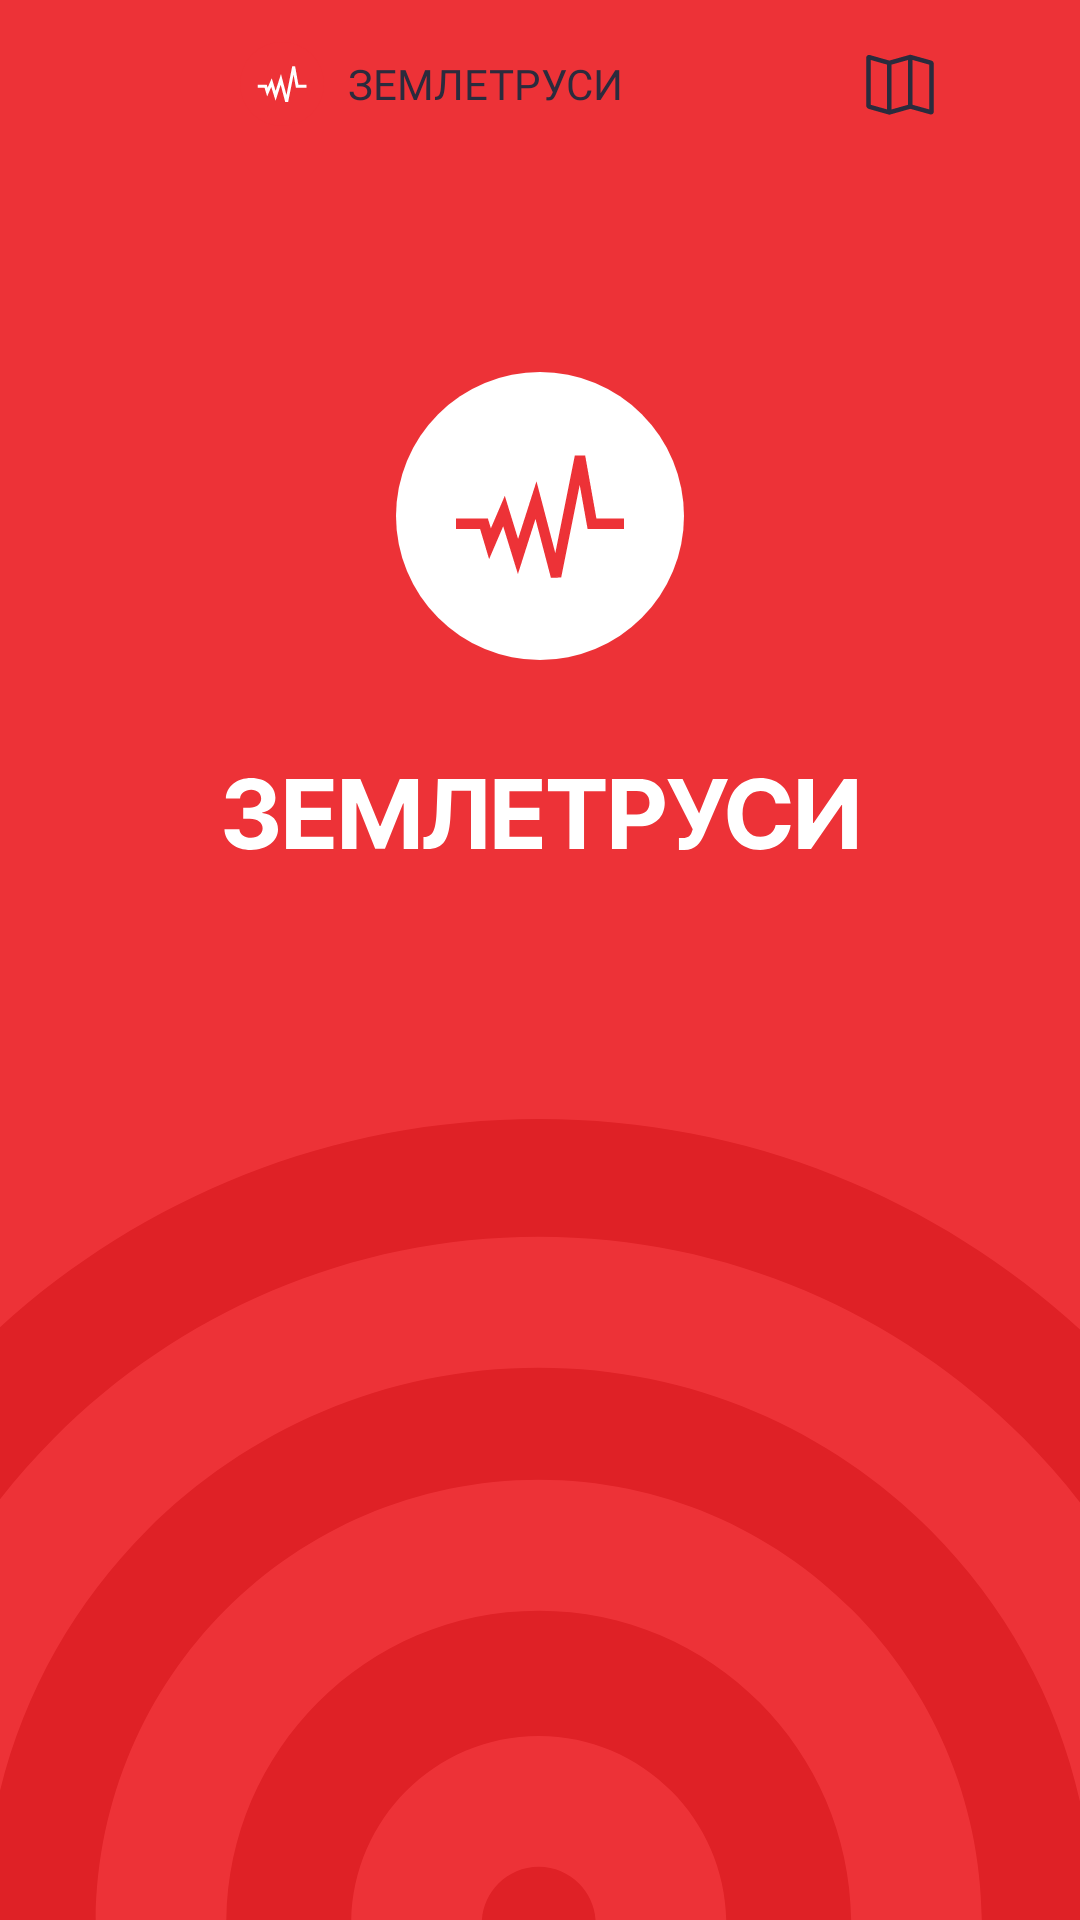

Icon click points for this 1080 × 1920 phone screenshot, format [x,y]:
map toolbar: [900,84]
